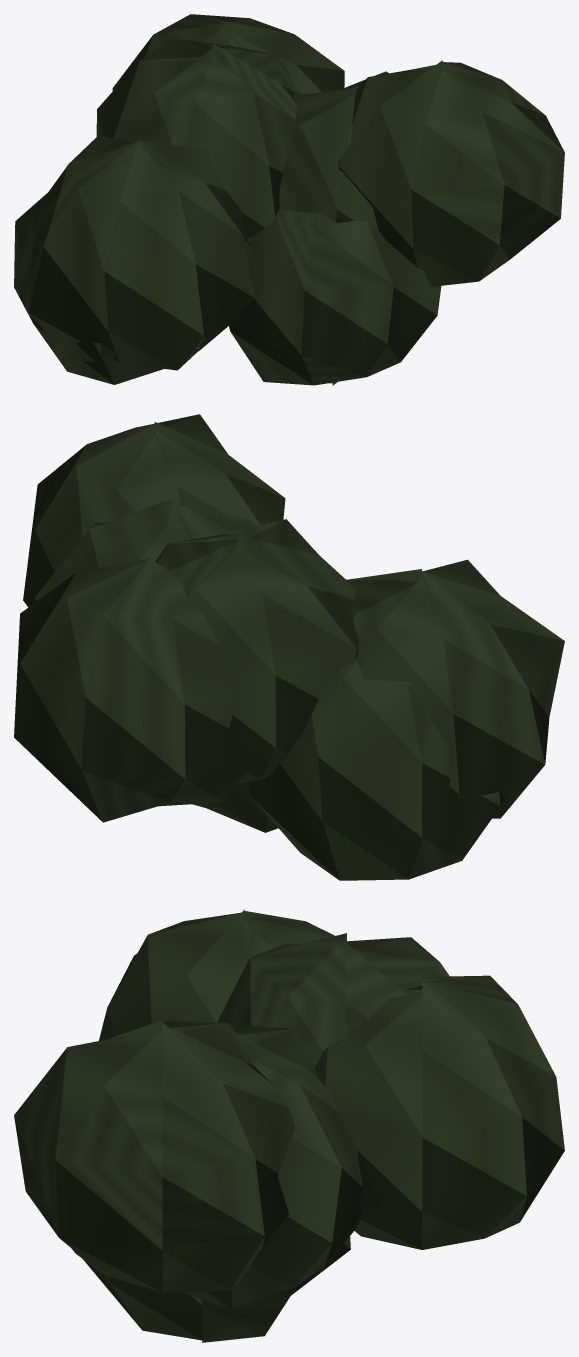
Rendered from env_scrub_desert_dry_a.glb.
The picture shows the model from 3 angles, top to bottom: view 1: azimuth 30°, elevation 25°; view 2: azimuth 150°, elevation 25°; view 3: azimuth 270°, elevation 25°; orthographic projection. The views are drawn at different scales.
Parts seen in each view (by area): view 1: env_scrub_desert_dry_a; view 2: env_scrub_desert_dry_a; view 3: env_scrub_desert_dry_a.
Part boxes in pixels (left/top/right/bottom): env_scrub_desert_dry_a: left=14, top=14, right=564, bottom=385; env_scrub_desert_dry_a: left=14, top=414, right=564, bottom=880; env_scrub_desert_dry_a: left=14, top=909, right=564, bottom=1342.
Size of the model in its own units: 1.86 by 1.16 by 1.53.
1 material, 1 textured.
